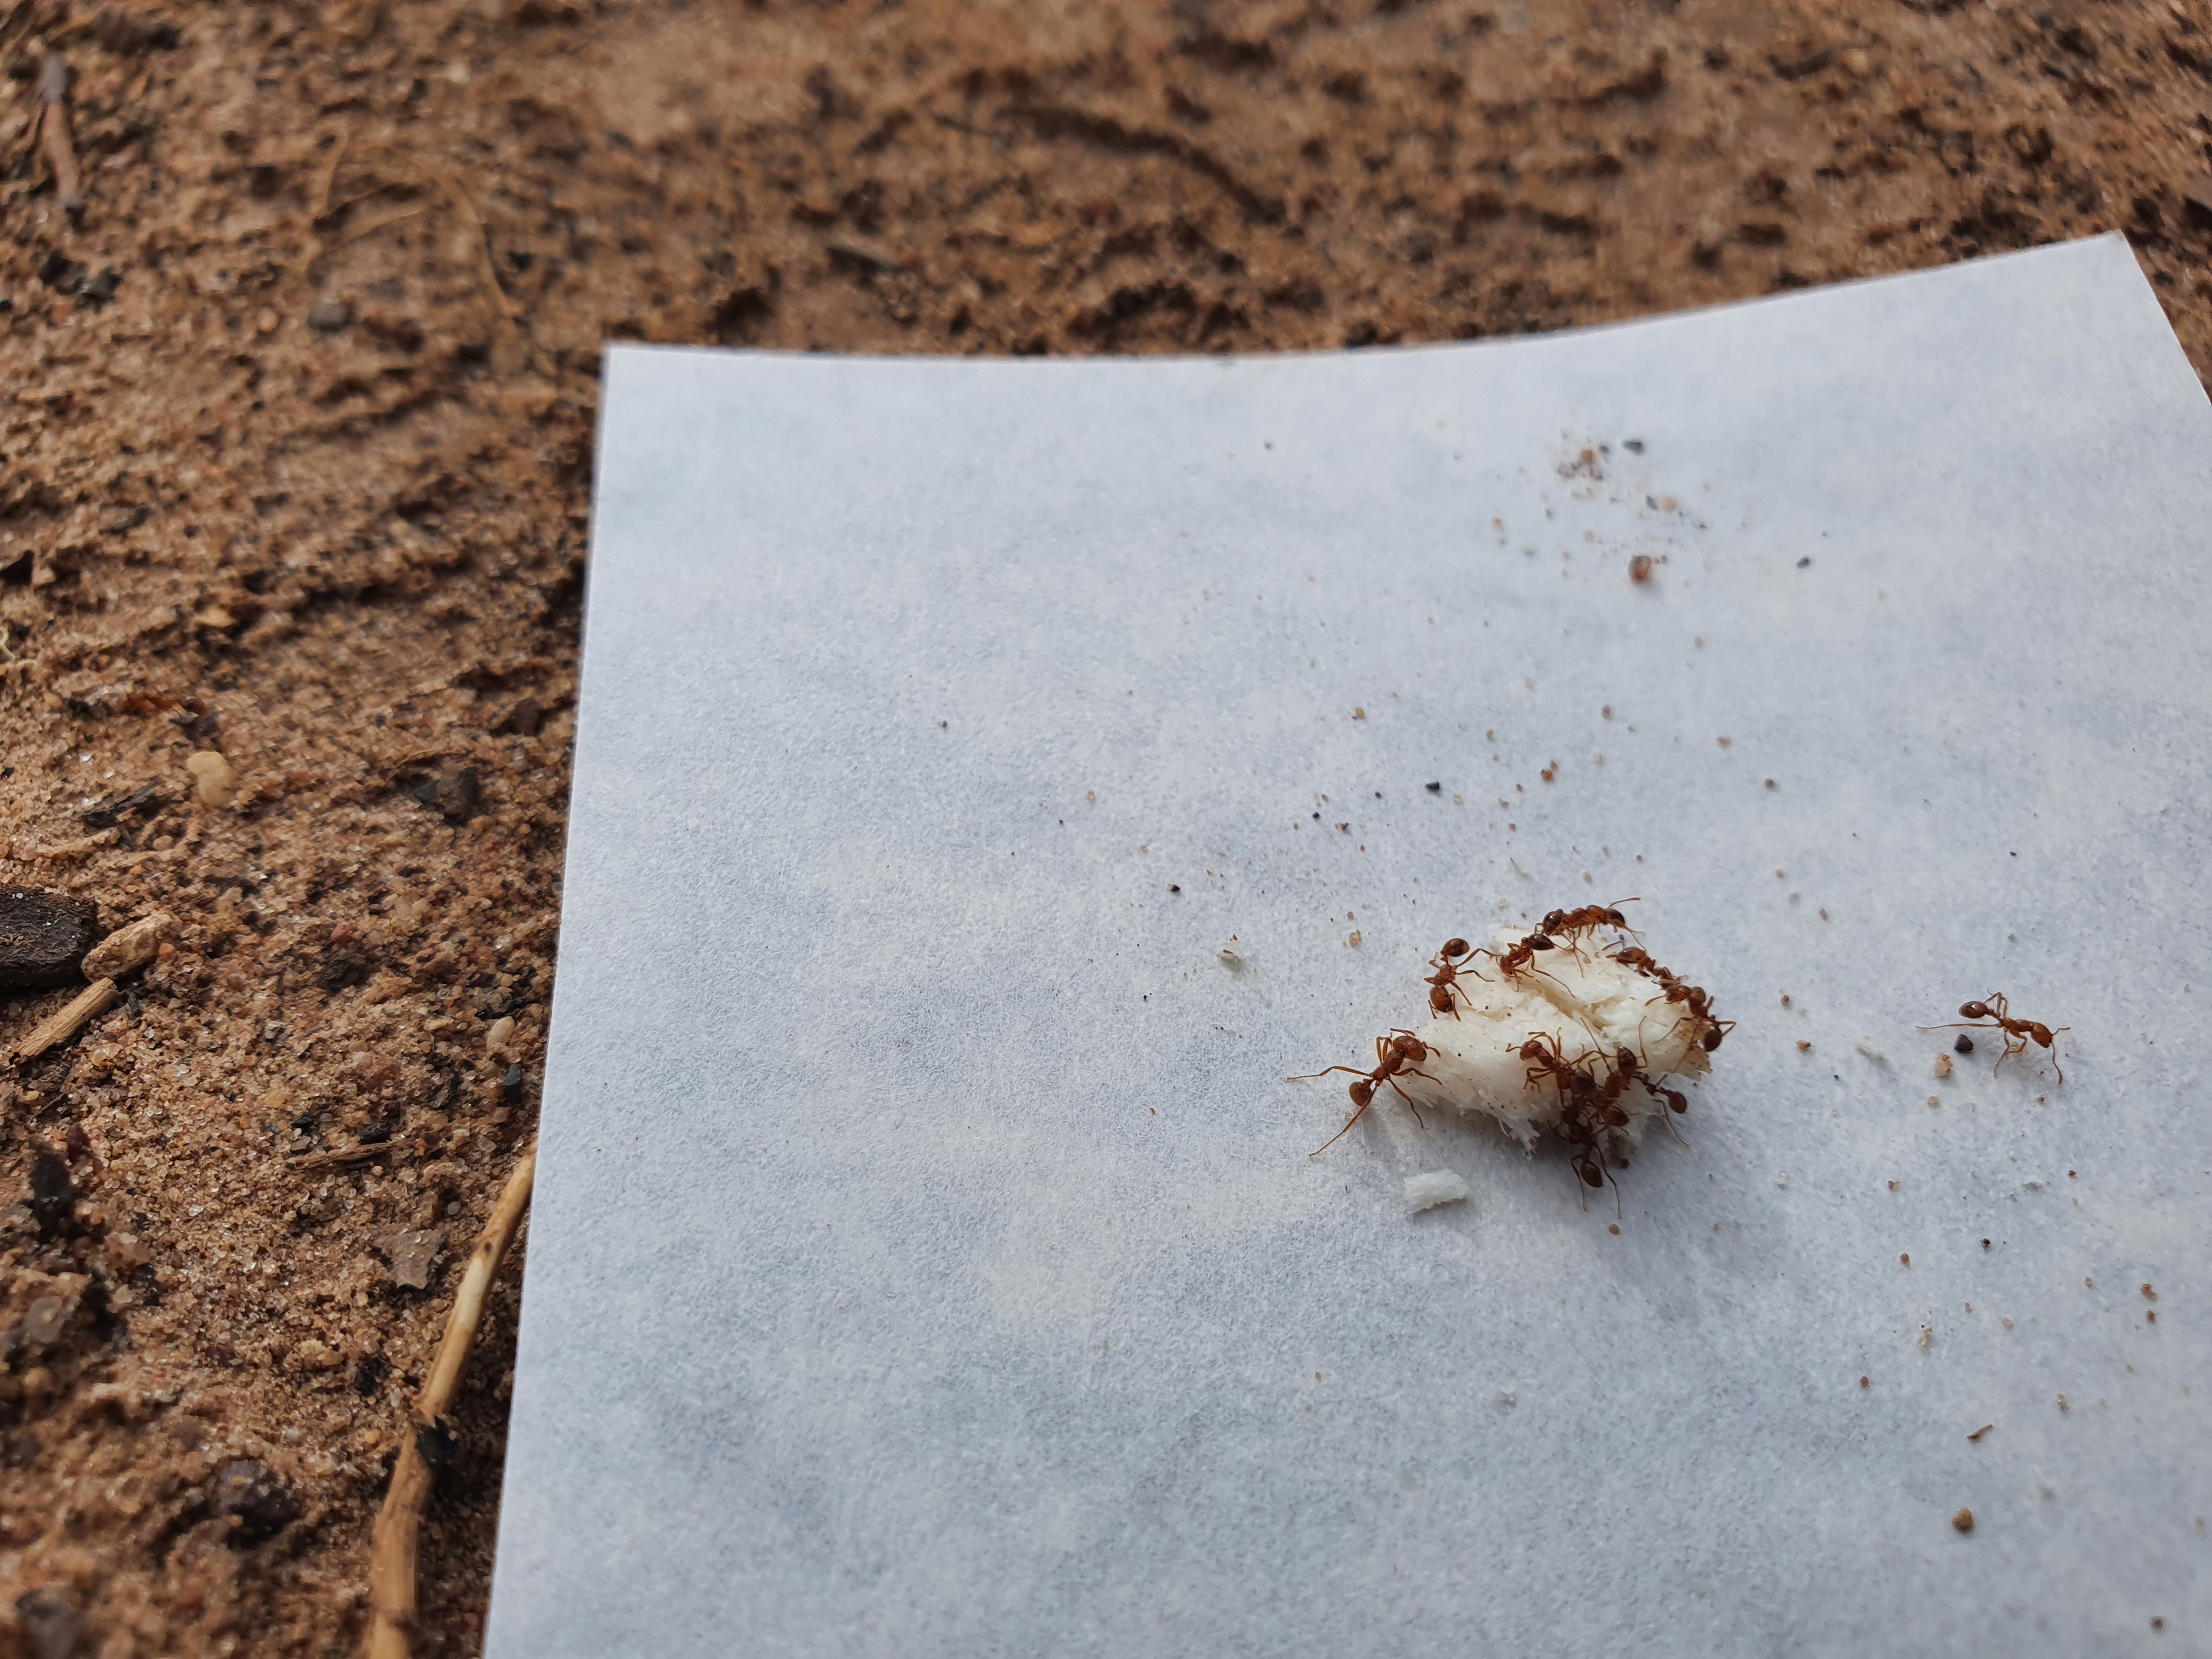Solenopsis_geminata: (1270, 1004, 1456, 1183), (1912, 962, 2087, 1115), (92, 647, 240, 769), (1400, 915, 1500, 1046)
